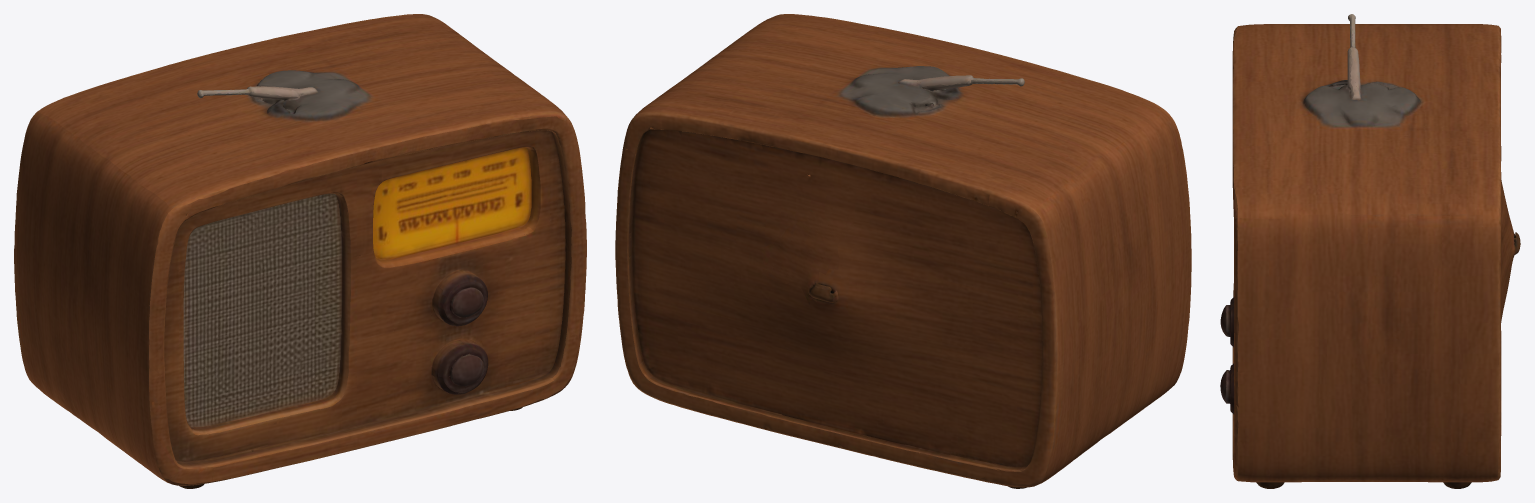
The model's file is parts.glb.
3 views of the same model, side by side, from view 1: azimuth 30°, elevation 25°; view 2: azimuth 150°, elevation 25°; view 3: azimuth 270°, elevation 25° (orthographic). The views are drawn at different scales.
Size of the model in its own units: 0.32 by 0.244 by 0.193.
Materials: 4 (4 with a texture image).
